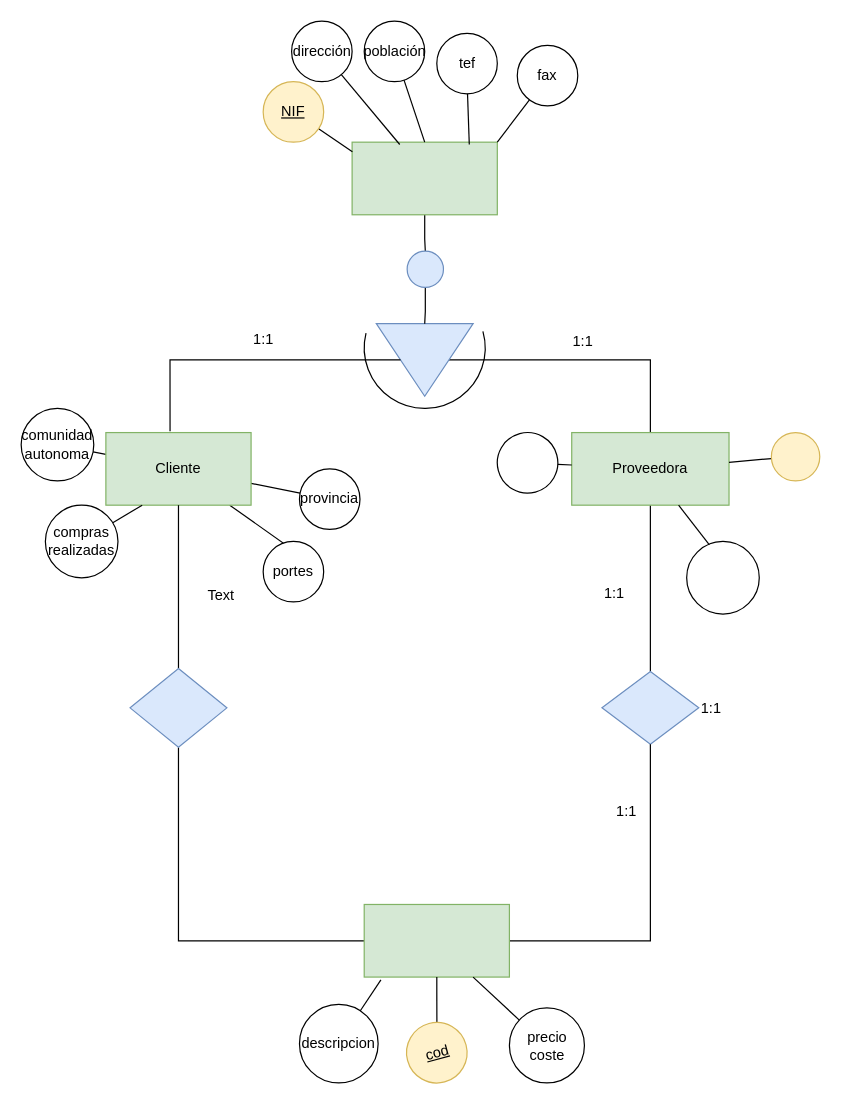
Some shapes in this 841 by 1112 pixel diagram are drawn without their labels. The shapes that lost their labels are listed below. From the top down, each one's centre as x and y in pixels, then its label:
point 424,178: Empresa
point 527,462: nombre persona
point 795,456: CIF inter
point 722,577: tef proveedores
point 178,707: demanda
point 650,707: Proveen
point 436,940: Productos
